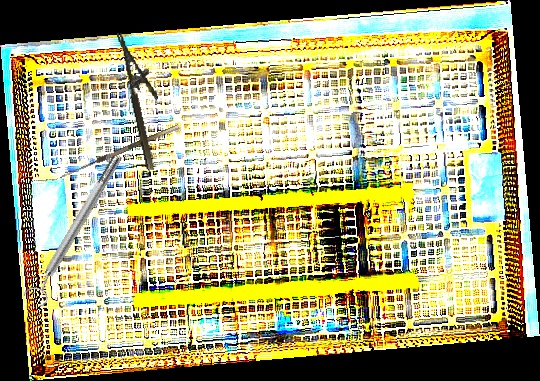Fixation Ring: (20, 150, 131, 309)
Hook Surgical: (58, 124, 183, 185)
Needle Holder: (116, 27, 173, 172)
